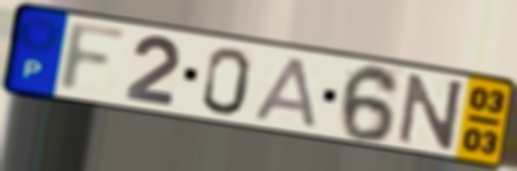0: (200, 45, 256, 117)
2: (122, 33, 185, 110)
6: (337, 61, 404, 145)
A: (250, 54, 319, 131)
F: (54, 19, 134, 96)
N: (394, 71, 468, 152)
